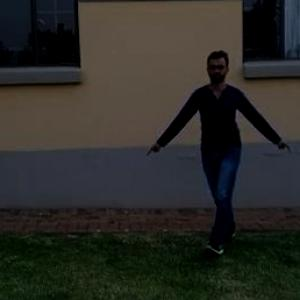land: (165, 61, 276, 229)
